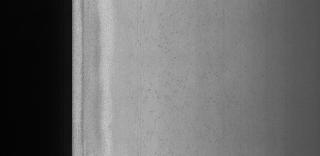silk spot: (128, 4, 226, 116)
